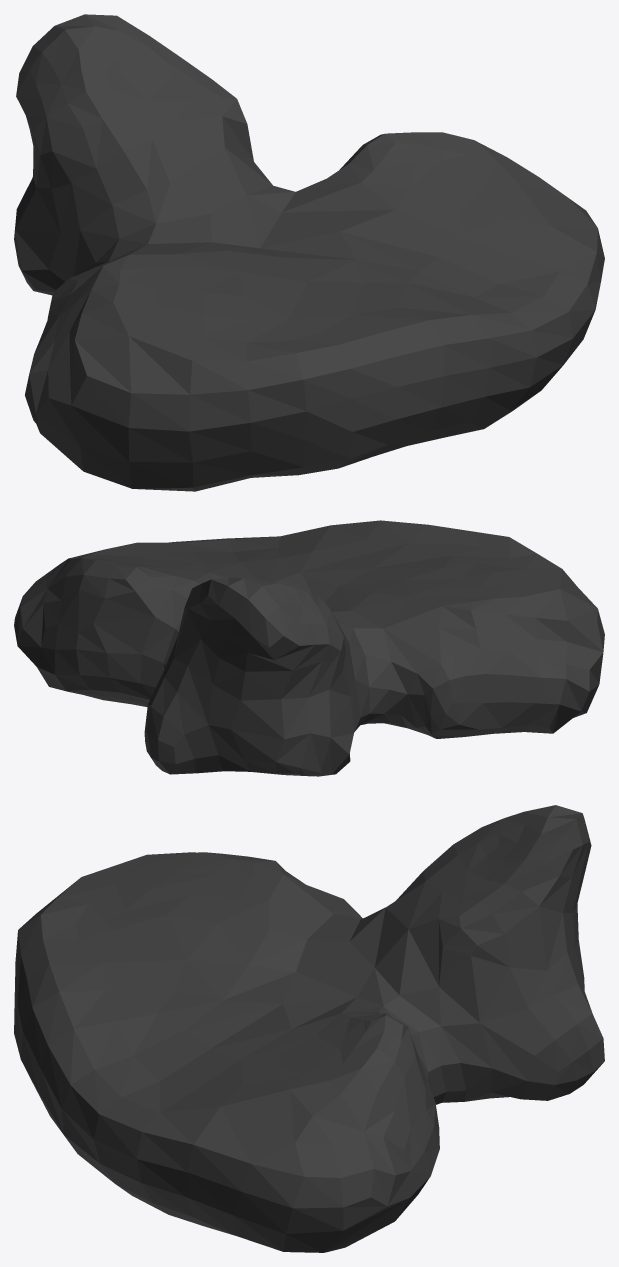
The model's file is 3rd_tarsal_R.glb.
The picture shows the model from 3 angles, top to bottom: view 1: azimuth 30°, elevation 25°; view 2: azimuth 150°, elevation 25°; view 3: azimuth 270°, elevation 25°; orthographic projection. The views are drawn at different scales.
Visible parts, largest first — view 1: 3rd_tarsal_R; view 2: 3rd_tarsal_R; view 3: 3rd_tarsal_R.
Part boxes in pixels (box(x1,y1,x2,y2)): 3rd_tarsal_R: box(14, 14, 604, 491); 3rd_tarsal_R: box(14, 520, 604, 776); 3rd_tarsal_R: box(14, 805, 604, 1252).
Bounding box in the file's own units: 0.0794 × 0.0371 × 0.0675.
1 material, 1 textured.
